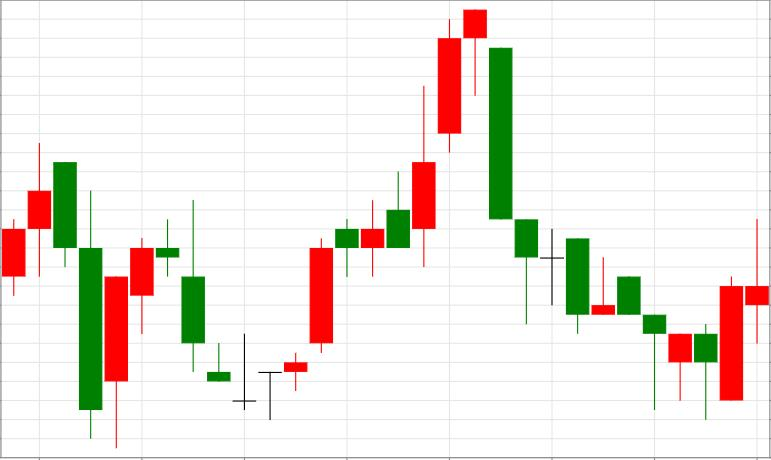hammer_rise: (490, 47, 691, 410)
hanging_man_fall: (257, 9, 486, 419)
